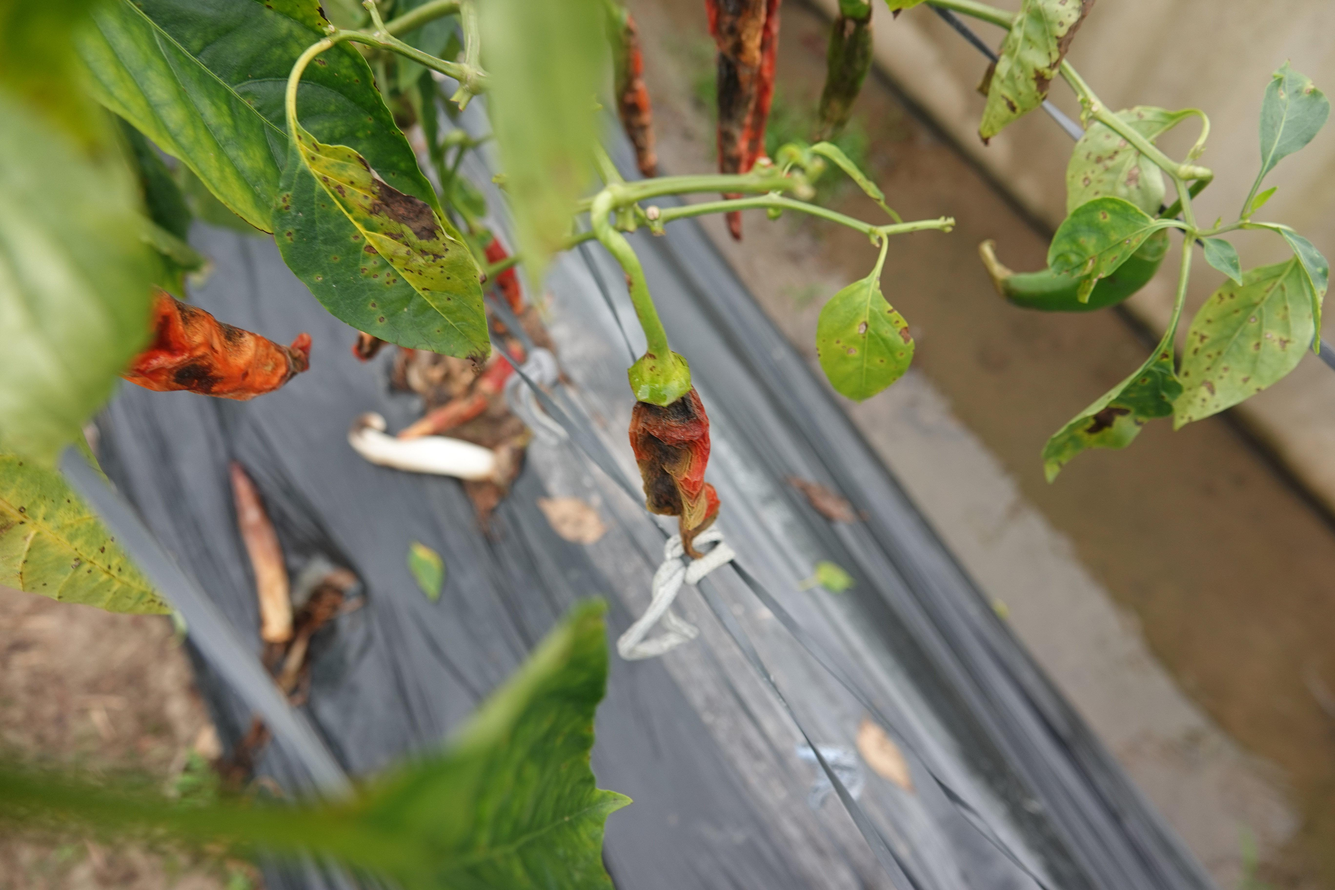Bercak Daun Serkospora: (68, 0, 493, 360)
Busuk Buah Antraknosa: (98, 289, 312, 397), (625, 373, 724, 561), (708, 1, 777, 253)
